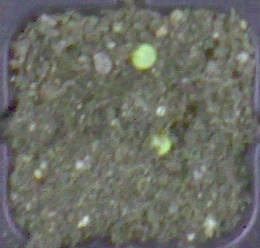pepper seed: (60, 51, 234, 210), (51, 7, 210, 79)
